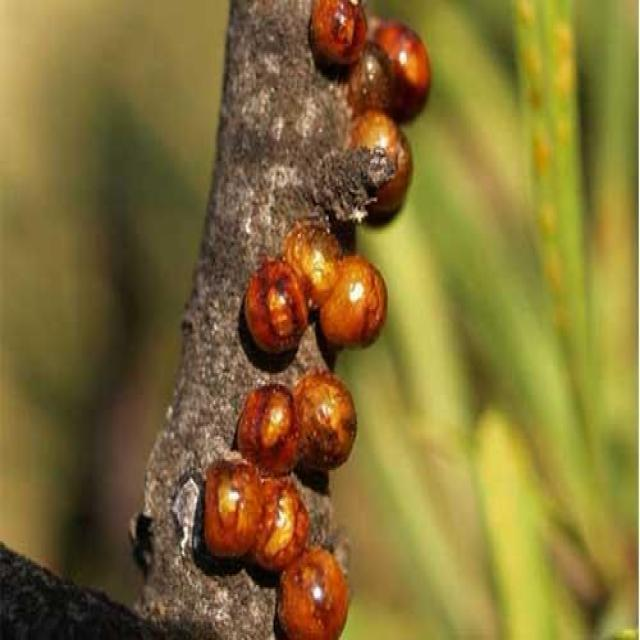BlackScale: (200, 370, 354, 638), (311, 0, 429, 223), (245, 220, 386, 354)
